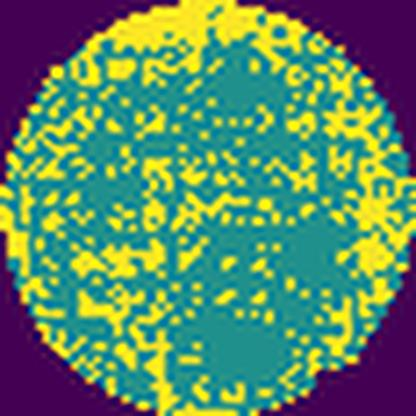Edge-Loc: (68, 0, 331, 65)
